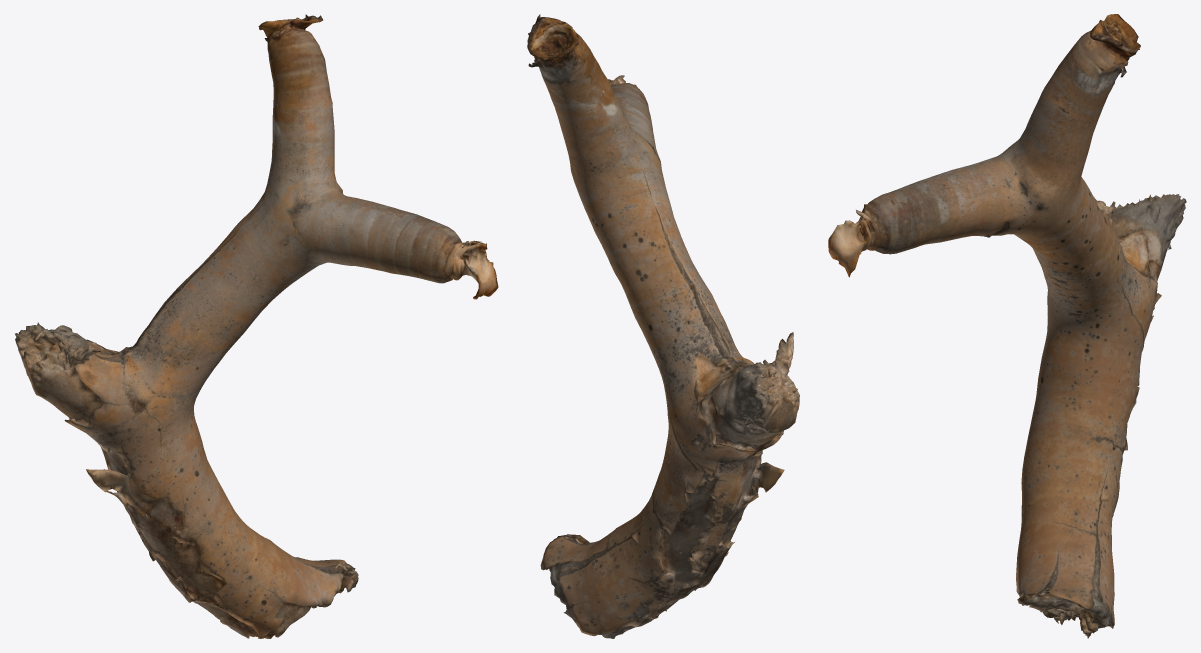
File: dead_quiver_branch_01.glb
3 renders of one model, left to right at view 1: azimuth 30°, elevation 25°; view 2: azimuth 150°, elevation 25°; view 3: azimuth 270°, elevation 25°, orthographic. The views are drawn at different scales.
Parts seen in each view (by area): view 1: dead_quiver_branch_01; view 2: dead_quiver_branch_01; view 3: dead_quiver_branch_01.
Boxes of the visible parts, x1,y1,x2,y2 form: dead_quiver_branch_01: (15, 14, 498, 638); dead_quiver_branch_01: (527, 14, 799, 638); dead_quiver_branch_01: (828, 14, 1186, 638).
Bounding box in the file's own units: 0.2549 × 0.4387 × 0.227.
1 material, 1 textured.
